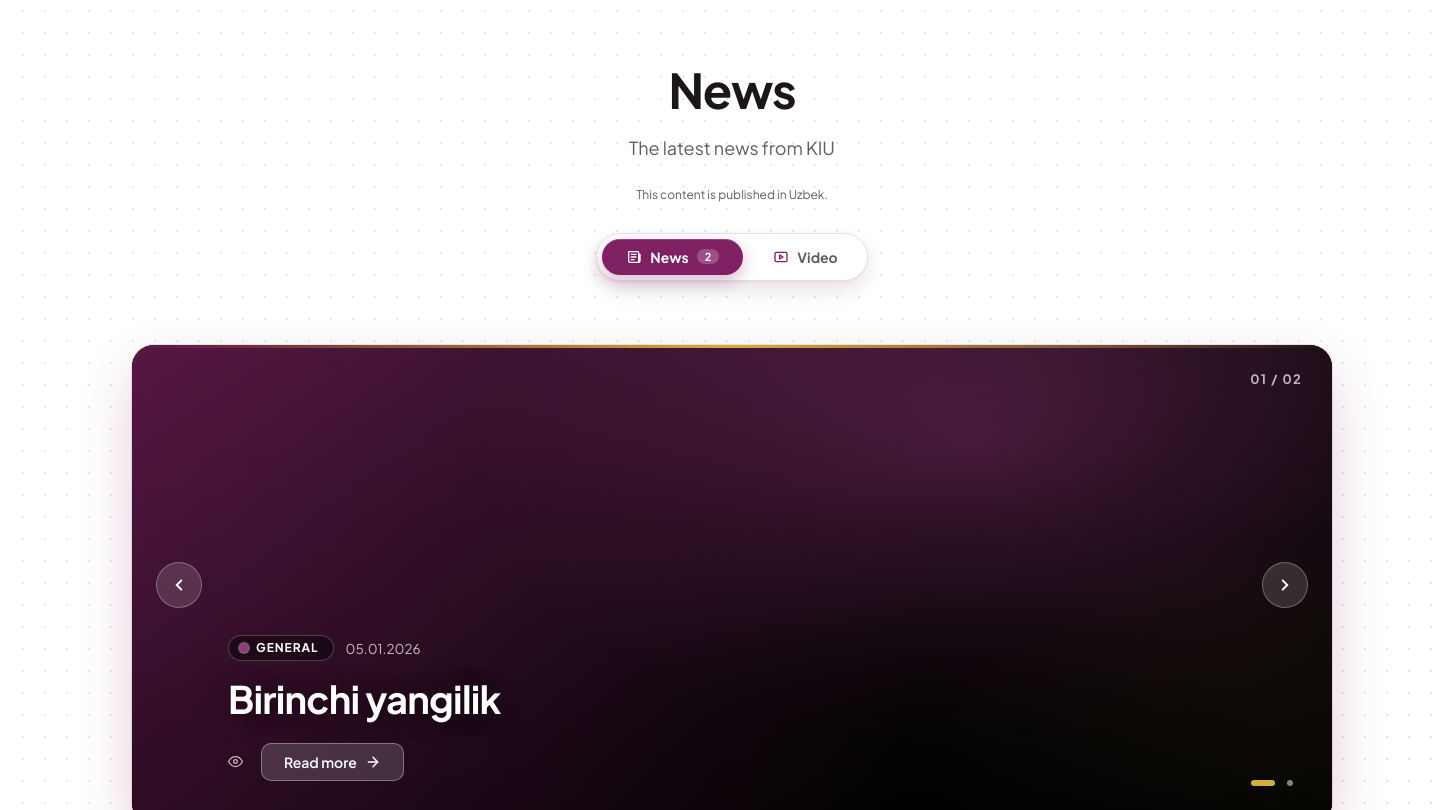
Test: Bazadan keladigan sahifalar (EN): interfeys inglizcha, kontent o'zbekcha › News: kategoriya inglizcha, sarlavha lang=uz, izoh bor; batafsil tugmasi /en/news/:id ga olib boradi
Expected: the text "This content is published in Uzbek." is shown, [636,185,828,205]
Expected: the text "General" is shown, [228,635,334,661]
Click the button "Read more": (332, 762) [261,743,404,781]
(page scrolled)
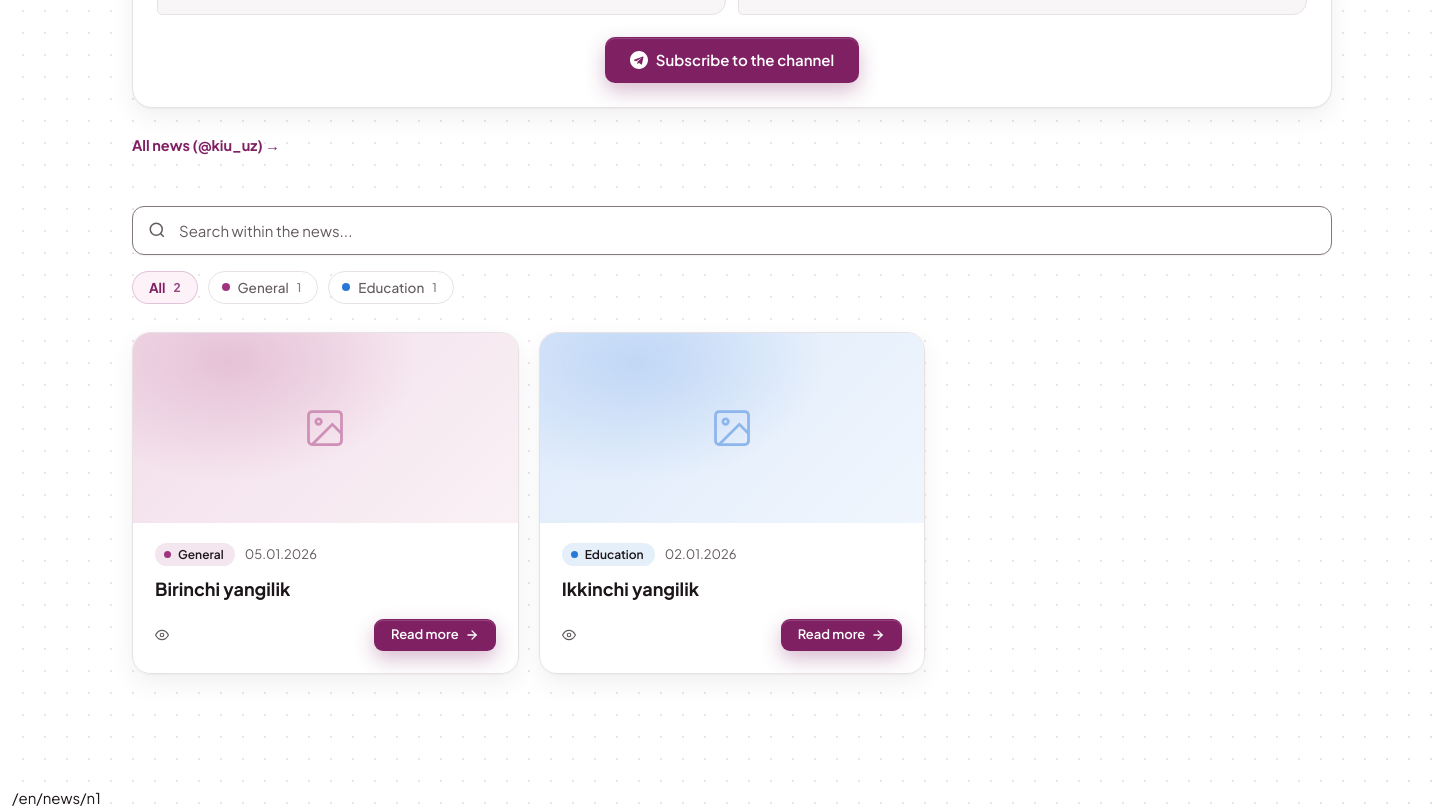
Result: the text with test id "loc" reads "/en/news/n1" at [12,788,101,807]
